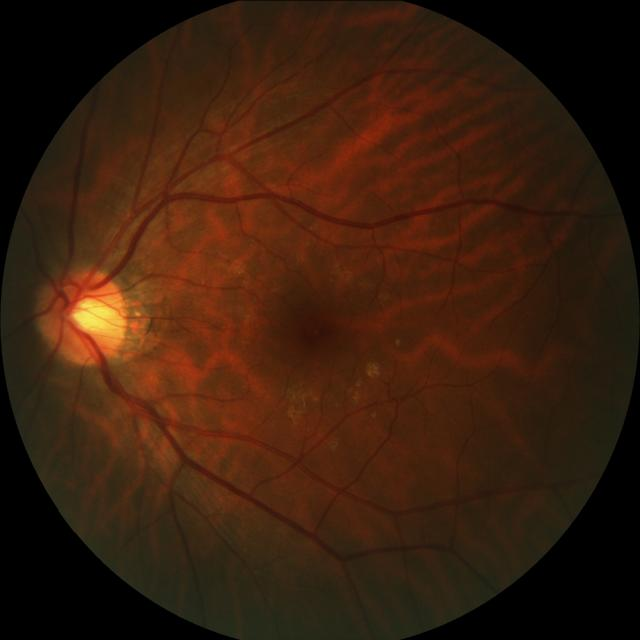OC: (68, 291, 114, 335)
OD: (42, 264, 130, 362)
